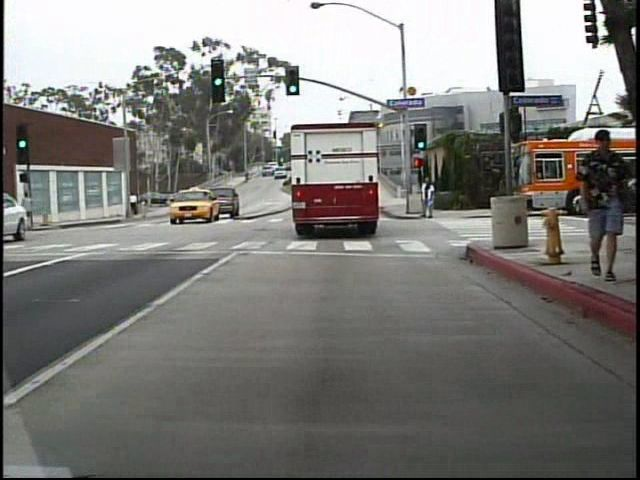person: (574, 124, 616, 288), (415, 176, 440, 222), (20, 189, 37, 232), (127, 187, 143, 220)
